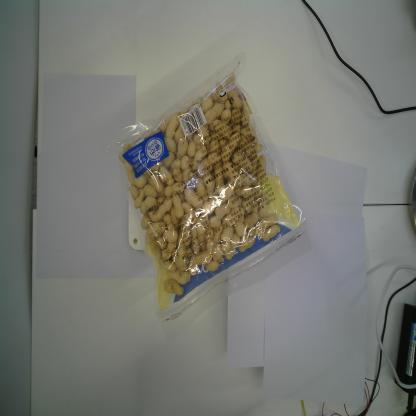Dried Food: (104, 51, 318, 334)
